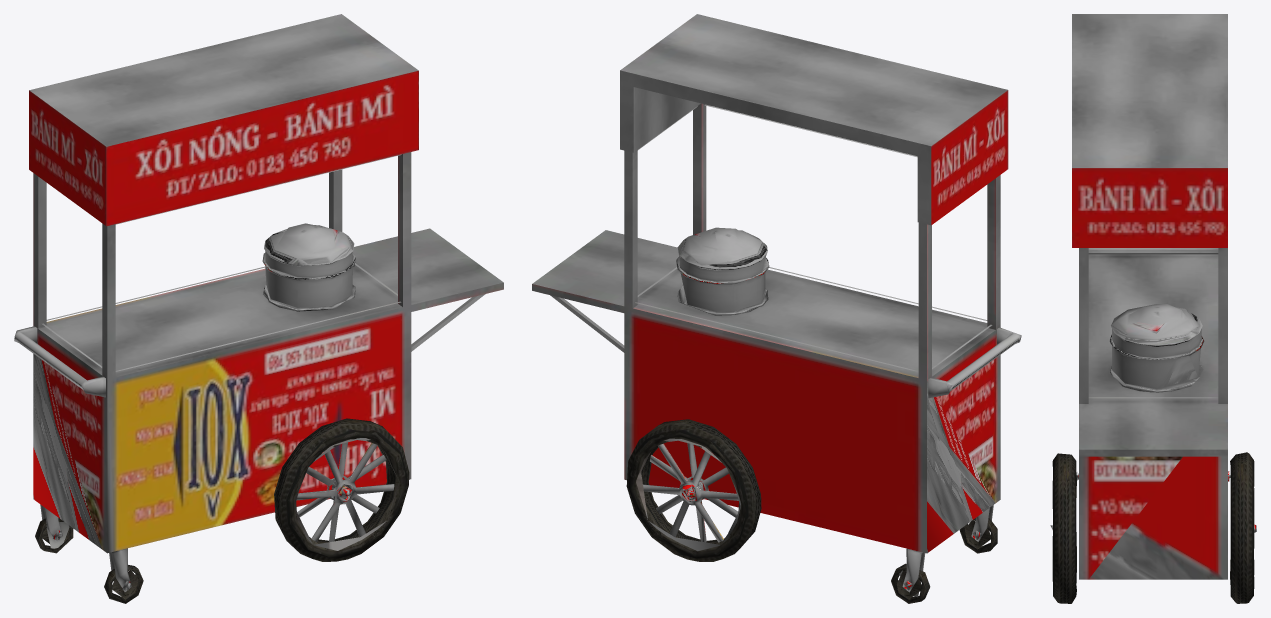
The model's file is xe-banh-mi.glb.
3 views of the same model, side by side, from view 1: azimuth 30°, elevation 25°; view 2: azimuth 150°, elevation 25°; view 3: azimuth 270°, elevation 25° (orthographic).
Visible parts, largest first — view 1: Cube.001_Material.001_0, Cube.001_Material.002_0; view 2: Cube.001_Material.001_0, Cube.001_Material.002_0; view 3: Cube.001_Material.001_0, Cube.001_Material.002_0.
Part boxes in pixels (left/top/right/bottom): Cube.001_Material.001_0: left=14, top=14, right=503, bottom=599; Cube.001_Material.002_0: left=35, top=418, right=409, bottom=603; Cube.001_Material.001_0: left=532, top=14, right=1021, bottom=599; Cube.001_Material.002_0: left=626, top=419, right=997, bottom=603; Cube.001_Material.001_0: left=1050, top=14, right=1256, bottom=579; Cube.001_Material.002_0: left=1052, top=452, right=1254, bottom=603.
Size of the model in its own units: 0.9418 by 1 by 0.3975.
Materials: 2 (2 with a texture image).
